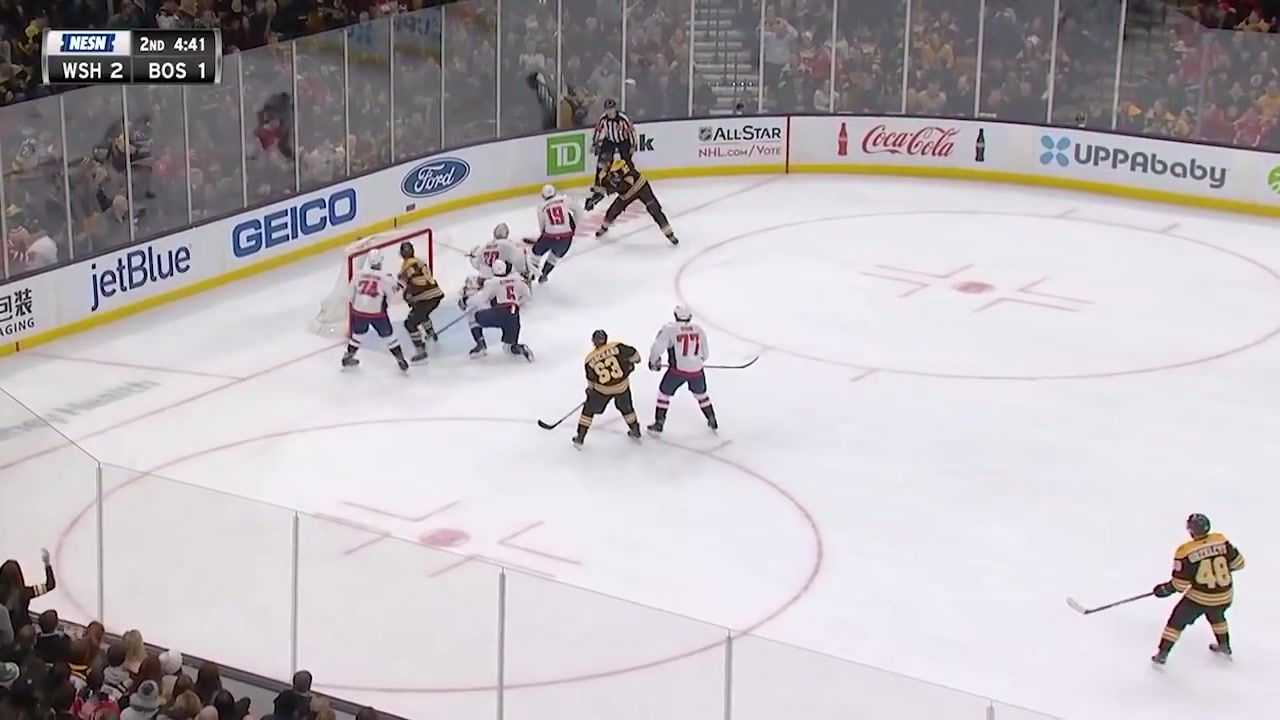geico: (228, 195, 378, 258)
